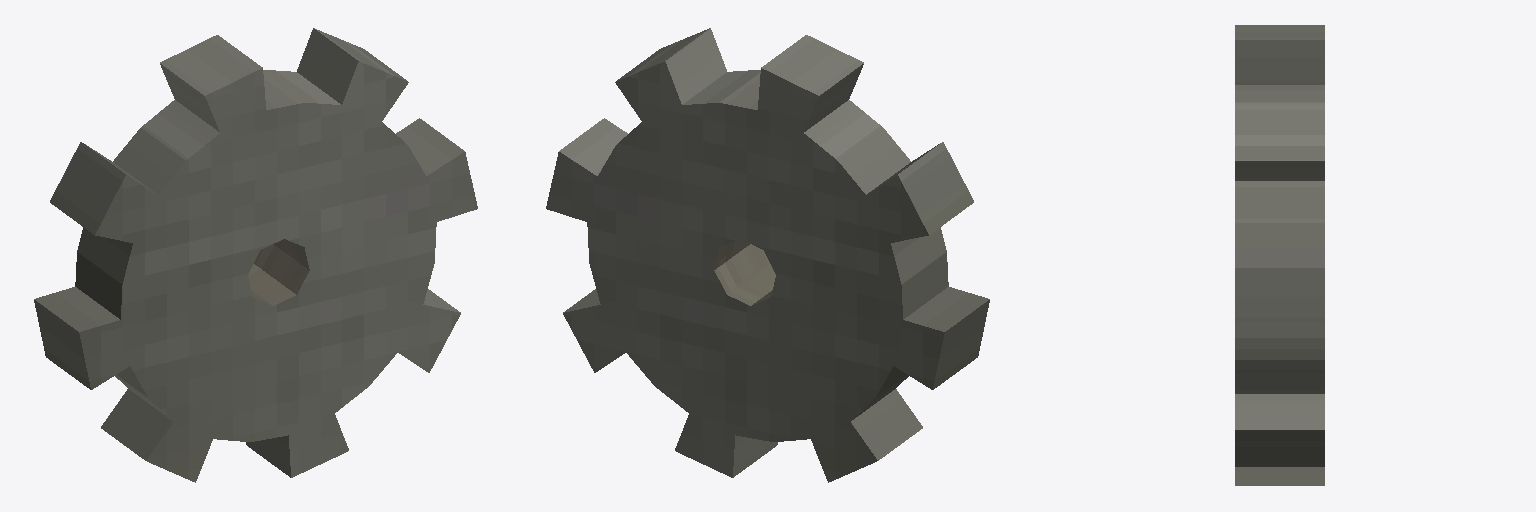
3 views of the same model, side by side, from view 1: azimuth 30°, elevation 25°; view 2: azimuth 150°, elevation 25°; view 3: azimuth 270°, elevation 25° (orthographic).
Parts seen in each view (by area): view 1: smallGear; view 2: smallGear; view 3: smallGear.
Part boxes in pixels (bbox=[...]): smallGear: bbox=[34, 28, 477, 482]; smallGear: bbox=[546, 28, 989, 482]; smallGear: bbox=[1235, 25, 1324, 485].
Bounding box in the file's own units: 0.3027 × 0.3025 × 0.0597.
1 materials, 1 textured.